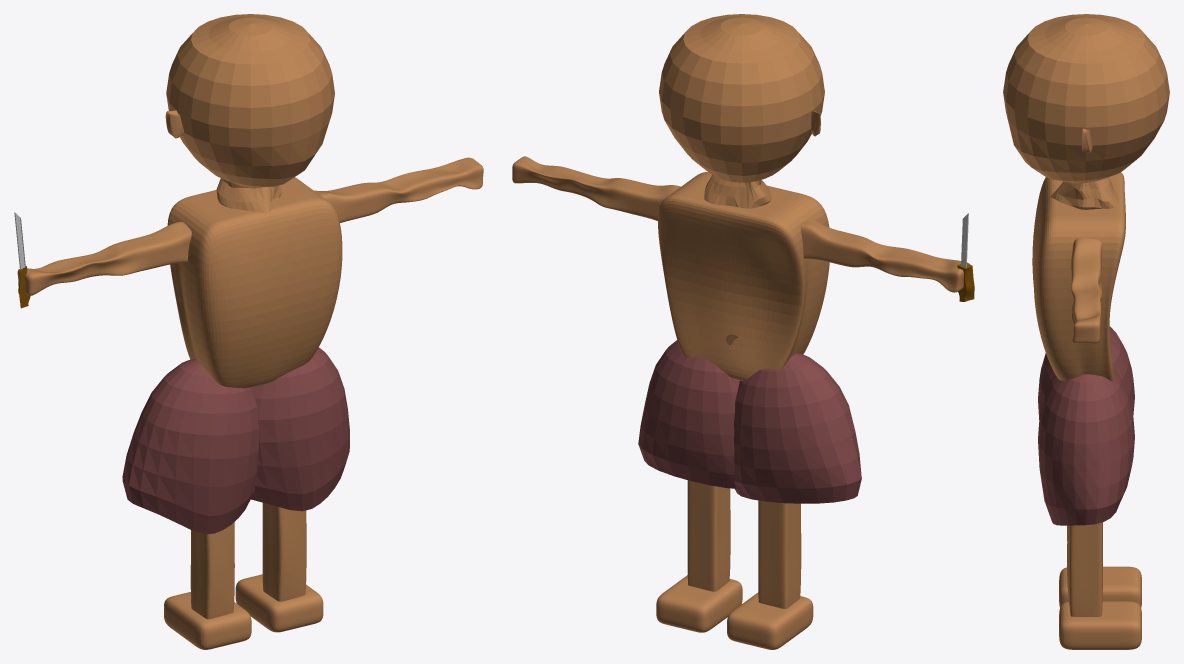
3 renders of one model, left to right at view 1: azimuth 30°, elevation 25°; view 2: azimuth 150°, elevation 25°; view 3: azimuth 270°, elevation 25°, orthographic.
Visible parts, largest first — view 1: глг; view 2: глг; view 3: глг.
Part boxes in pixels (x1,y1,x2,y2): глг: (14,14,483,649); глг: (512,14,974,649); глг: (1003,14,1169,649).
Size of the model in its own units: 632 by 792 by 200.
